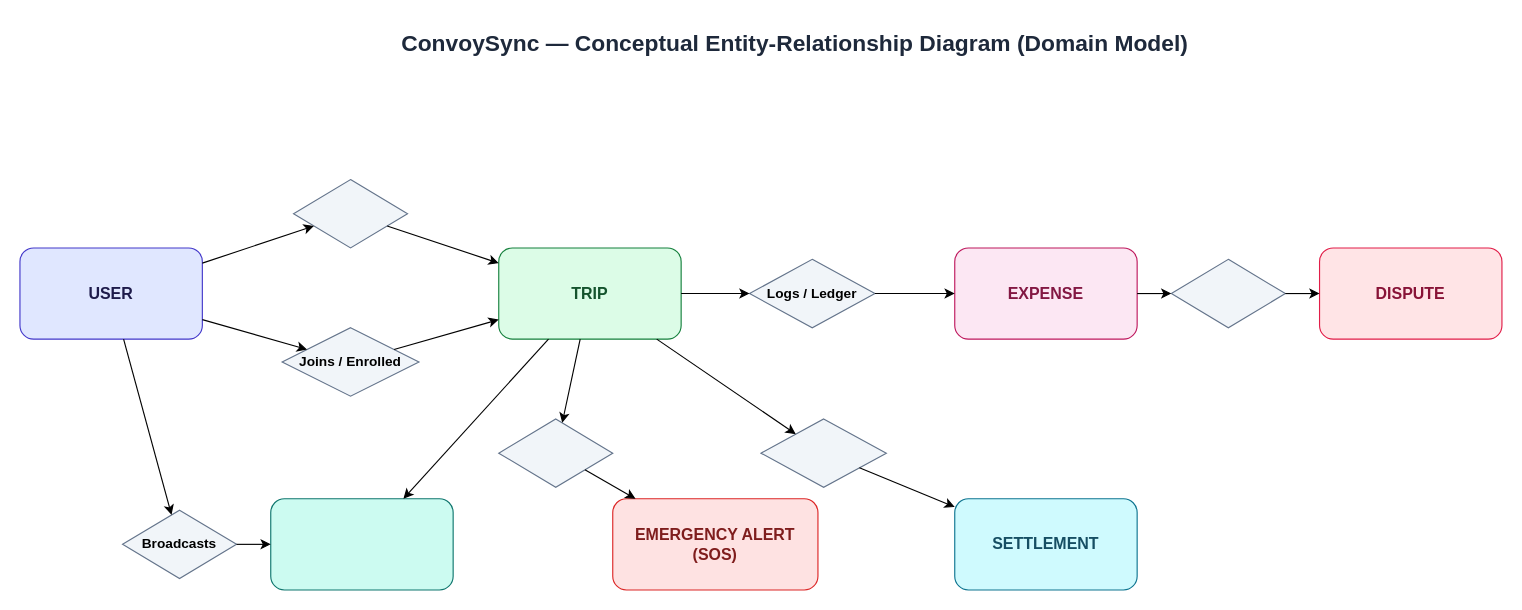
Image size: 1522x610. Some labels were removed from this diagram. Here are the shapes that lost their labels. From the top down, the centre of each, then its label:
At (350,213): "Hosts".
At (1227,293): "Contests".
At (555,452): "Triggers".
At (823,452): "Settles Debt".
At (361,544): "GPS TELEMETRY".
